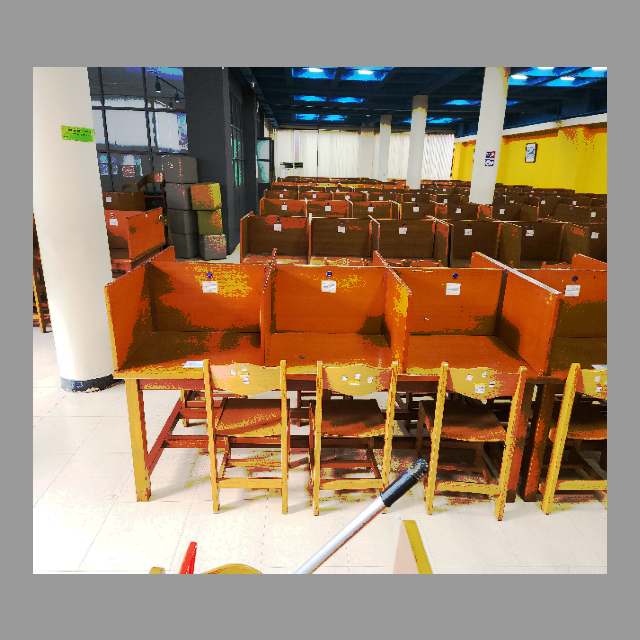empty: (108, 254, 267, 431), (405, 240, 542, 445), (276, 246, 398, 443)
